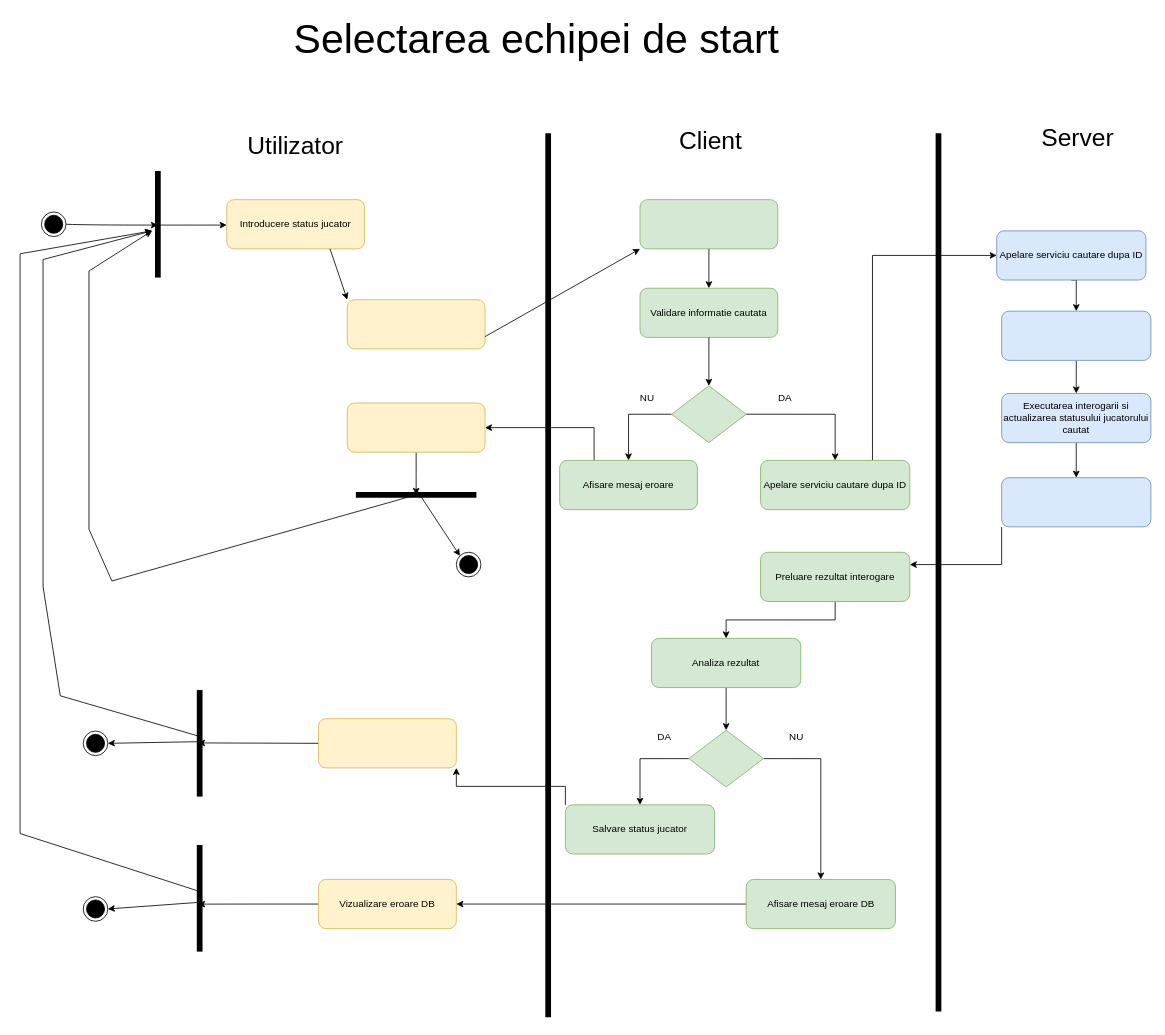
This 1165x1035 diagram has some shape labels left out. The box of each missing label's shape, as (x1, y1, x2, y2) in pixels:
Conectare la baza de date: (1001, 310, 1151, 360)
Deconectarea de la baza de date: (1001, 477, 1151, 527)
Generare cautare jucator si modificarea statusului acestuia: (346, 299, 485, 349)
Preluarea informatie cautata: (639, 199, 778, 249)
Vizualizare mesaj eroare: (346, 402, 485, 452)
Vizualizare status jucator: (318, 718, 456, 768)
